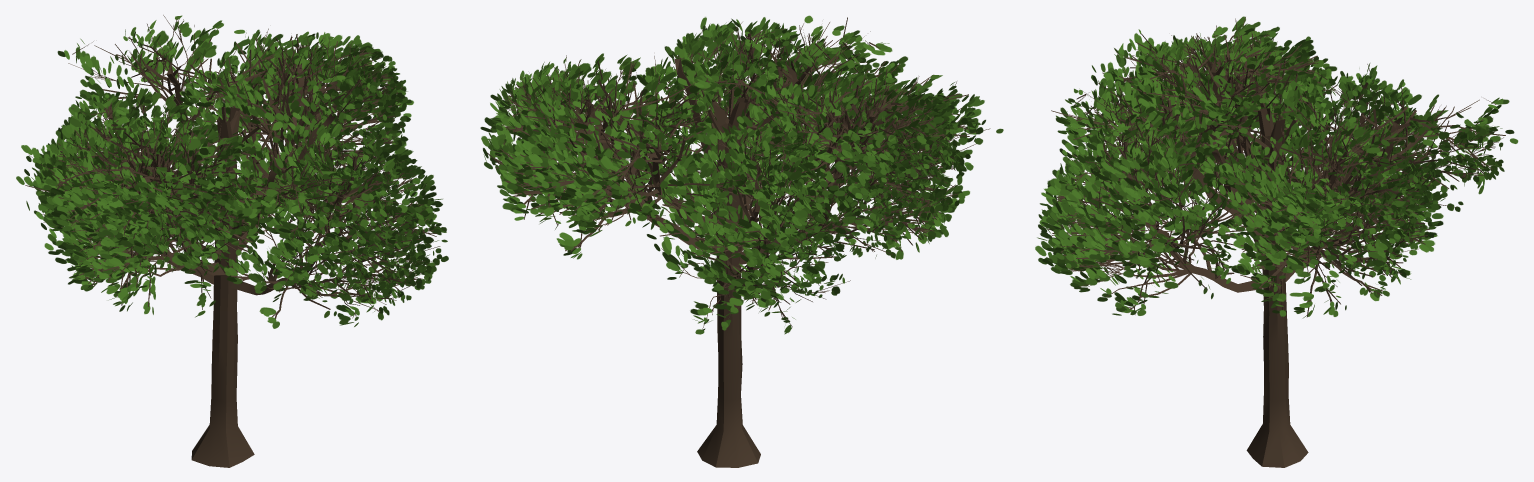
The picture shows the model from 3 angles, left to right: view 1: azimuth 30°, elevation 25°; view 2: azimuth 150°, elevation 25°; view 3: azimuth 270°, elevation 25°; orthographic projection. The views are drawn at different scales.
Visible parts, largest first — view 1: oak 01.001_trunk_Mat.001_0.158; view 2: oak 01.001_trunk_Mat.001_0.158; view 3: oak 01.001_trunk_Mat.001_0.158.
Boxes of the visible parts, bbox=[...] form: oak 01.001_trunk_Mat.001_0.158: bbox=[16, 15, 448, 467]; oak 01.001_trunk_Mat.001_0.158: bbox=[480, 15, 1003, 467]; oak 01.001_trunk_Mat.001_0.158: bbox=[1035, 16, 1518, 467].
Size of the model in its own units: 4.15 by 3.51 by 4.3.
2 materials, 1 textured.
